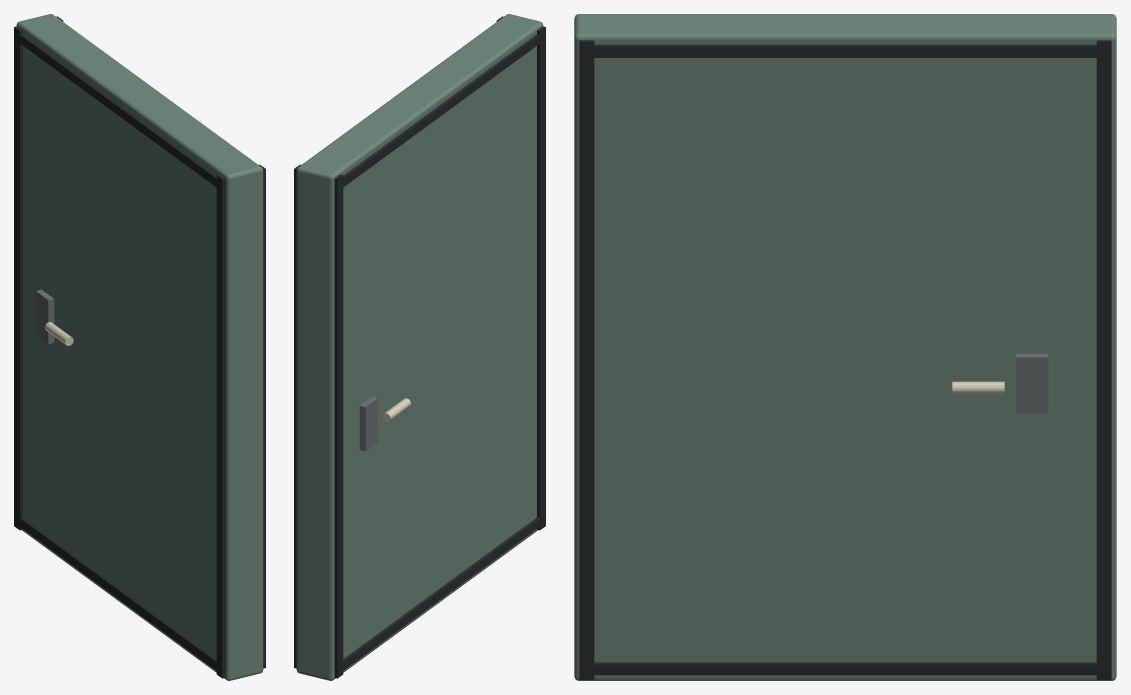
Rendered from door.glb.
The picture shows the model from 3 angles, left to right: view 1: azimuth 30°, elevation 25°; view 2: azimuth 150°, elevation 25°; view 3: azimuth 270°, elevation 25°; orthographic projection. The views are drawn at different scales.
Visible parts, largest first — view 1: door; view 2: door; view 3: door.
Boxes of the visible parts, box(x1,y1,x2,y2) form: door: box(14, 14, 265, 680); door: box(294, 14, 545, 680); door: box(574, 14, 1116, 680).
Bounding box in the file's own units: 0.39 × 2.87 × 2.18.
